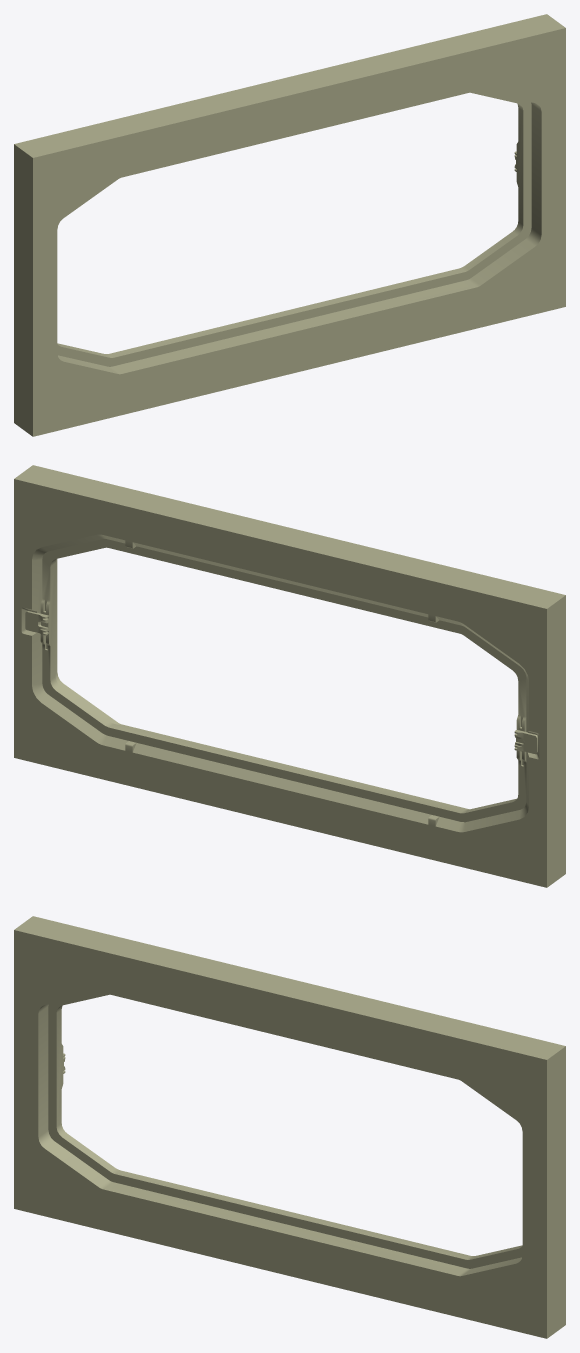
The model's file is window.FBX.
3 views of the same model, one above another, from view 1: azimuth 30°, elevation 25°; view 2: azimuth 150°, elevation 25°; view 3: azimuth 330°, elevation 25° (orthographic).
Visible parts, largest first — view 1: kuang_low, kuang2_low; view 2: kuang_low, kuang2_low, kouzi_low; view 3: kuang_low, kuang2_low.
Boxes of the visible parts, bbox=[...] form: kuang_low: bbox=[14, 14, 565, 436]; kuang2_low: bbox=[57, 90, 531, 366]; kuang_low: bbox=[14, 465, 565, 887]; kuang2_low: bbox=[40, 539, 526, 822]; kouzi_low: bbox=[25, 611, 537, 753]; kuang_low: bbox=[14, 916, 565, 1338]; kuang2_low: bbox=[48, 992, 522, 1268].
Size of the model in its own units: 400 by 200 by 25.23.
